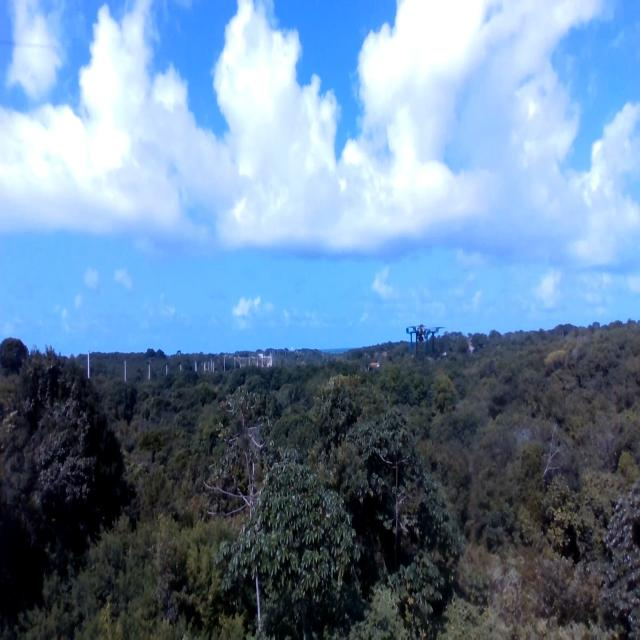-uav-: (402, 311, 443, 372)
